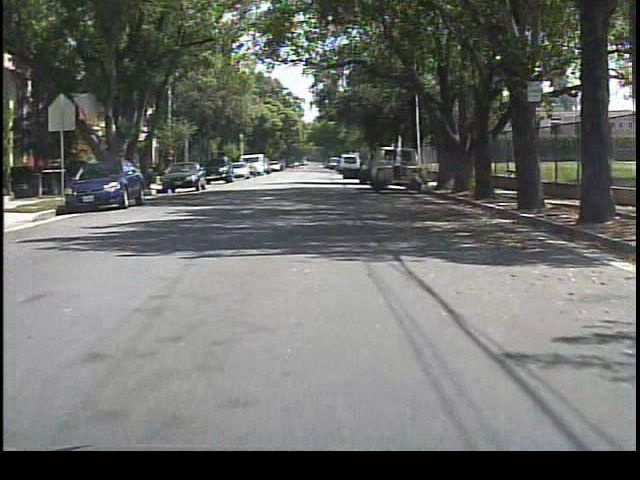person: (356, 160, 371, 187)
